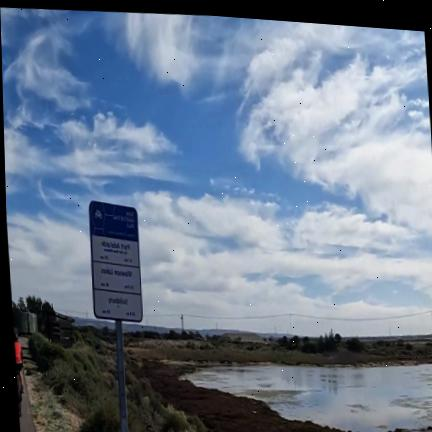Bike_Sign: (89, 200, 143, 328)
